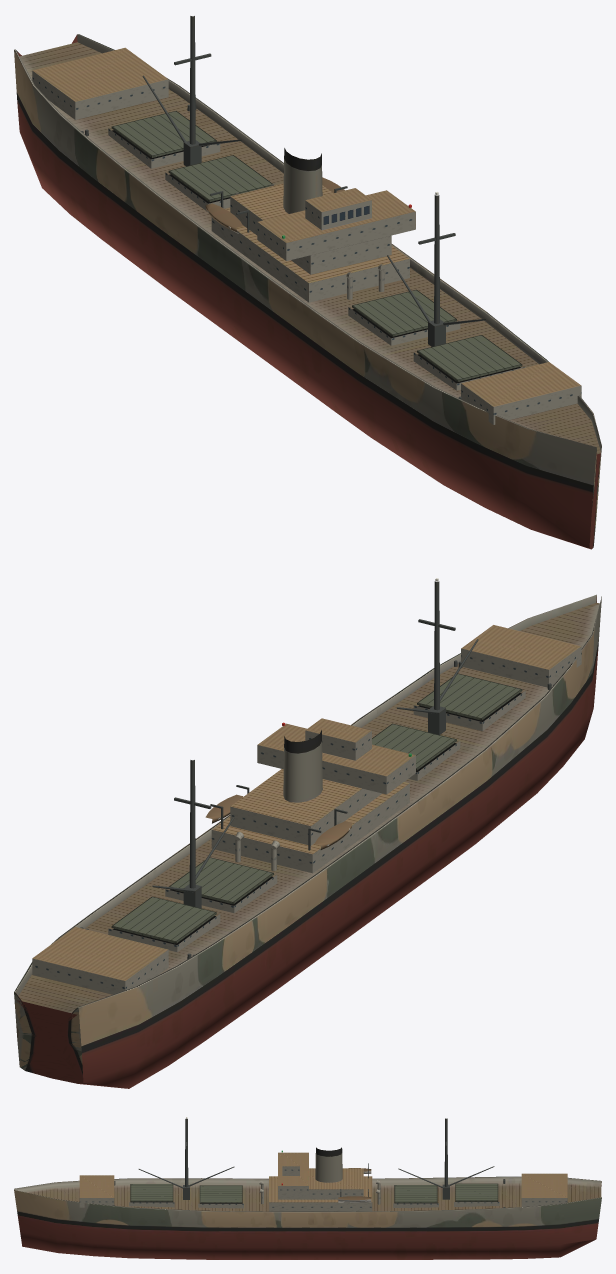
The model's file is cargo.glb.
3 renders of one model, top to bottom at view 1: azimuth 30°, elevation 25°; view 2: azimuth 150°, elevation 25°; view 3: azimuth 270°, elevation 25°, orthographic. The views are drawn at different scales.
Visible parts, largest first — view 1: hull, hold_hatch_1, hold_hatch_3, hold_hatch_2, hold_hatch_4; view 2: hull, hold_hatch_4, hold_hatch_1, hold_hatch_3, hold_hatch_2; view 3: hull, hold_hatch_4, hold_hatch_1, hold_hatch_2, hold_hatch_3, boat_left.
Part boxes in pixels (x1,y1,x2,y2): hull: [14, 16, 601, 549]; hold_hatch_1: [417, 335, 522, 381]; hold_hatch_3: [168, 155, 273, 202]; hold_hatch_2: [352, 289, 456, 336]; hold_hatch_4: [111, 111, 216, 157]; hull: [14, 578, 601, 1088]; hold_hatch_4: [111, 896, 216, 943]; hold_hatch_1: [417, 673, 522, 720]; hold_hatch_3: [169, 857, 273, 904]; hold_hatch_2: [372, 723, 456, 770]; hull: [14, 1117, 601, 1259]; hold_hatch_4: [455, 1183, 498, 1201]; hold_hatch_1: [130, 1184, 173, 1201]; hold_hatch_2: [199, 1185, 242, 1202]; hold_hatch_3: [394, 1185, 437, 1202]; boat_left: [338, 1196, 371, 1202].
Bounding box in the file's own units: 18 × 32.43 × 133.
8 materials, 7 textured.
